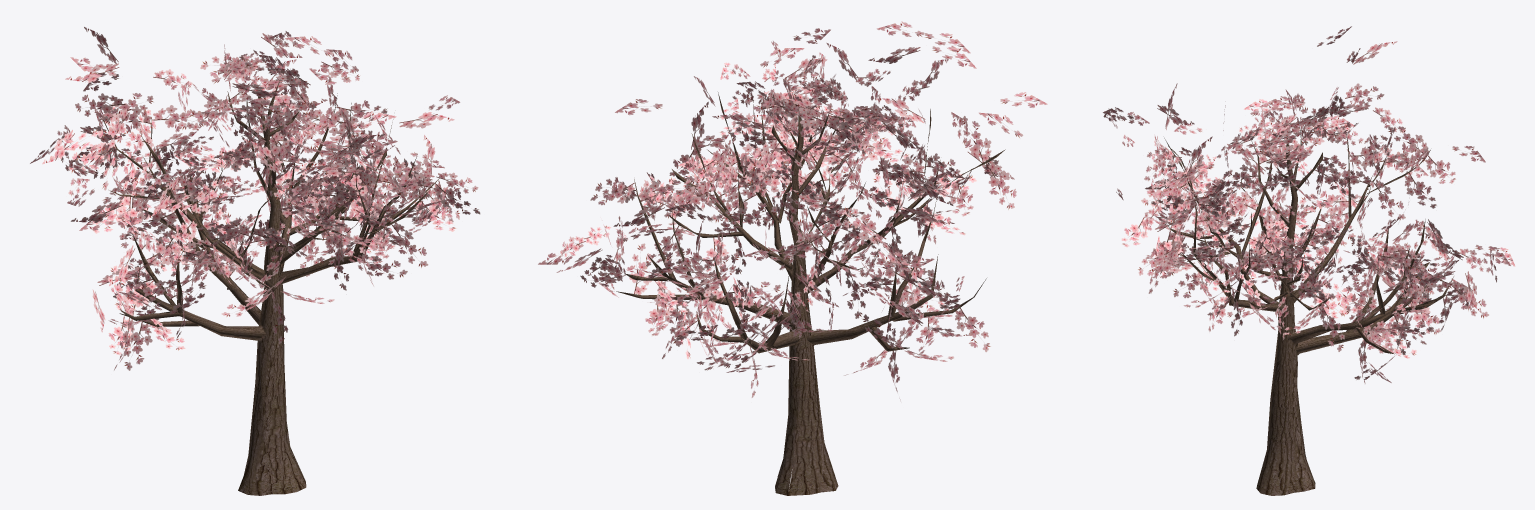
Rendered from maple_tree3.glb.
The picture shows the model from 3 angles, left to right: view 1: azimuth 30°, elevation 25°; view 2: azimuth 150°, elevation 25°; view 3: azimuth 270°, elevation 25°; orthographic projection. The views are drawn at different scales.
Visible parts, largest first — view 1: Sakura_Sakura_Mat_0, Sakura_Bark001_2K_JPG_Mat_0; view 2: Sakura_Sakura_Mat_0, Sakura_Bark001_2K_JPG_Mat_0; view 3: Sakura_Sakura_Mat_0, Sakura_Bark001_2K_JPG_Mat_0.
Part boxes in pixels (x1=…): Sakura_Sakura_Mat_0: x1=30, y1=27, x2=480, y2=370; Sakura_Bark001_2K_JPG_Mat_0: x1=103, y1=79, x2=439, y2=495; Sakura_Sakura_Mat_0: x1=538, y1=21, x2=1047, y2=400; Sakura_Bark001_2K_JPG_Mat_0: x1=616, y1=91, x2=1005, y2=495; Sakura_Sakura_Mat_0: x1=1103, y1=26, x2=1515, y2=383; Sakura_Bark001_2K_JPG_Mat_0: x1=1157, y1=121, x2=1453, y2=495.
Size of the model in its own units: 41.74 by 41.45 by 40.13.
Materials: 2 (2 with a texture image).
